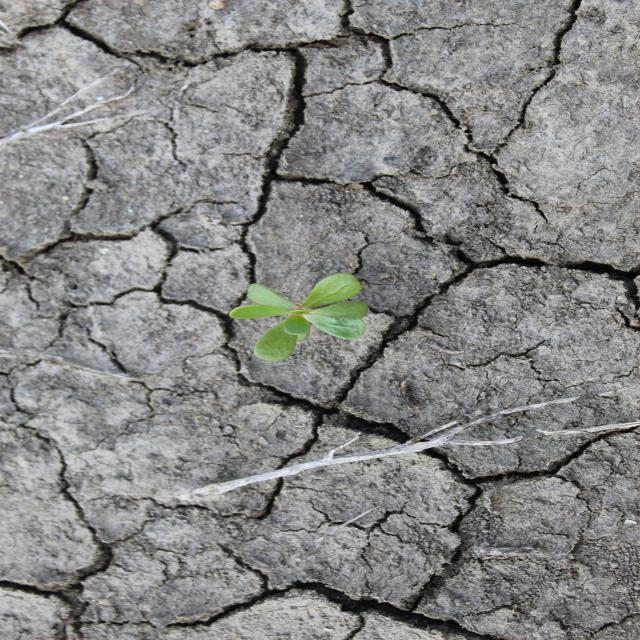Purslane: (228, 271, 370, 363)
